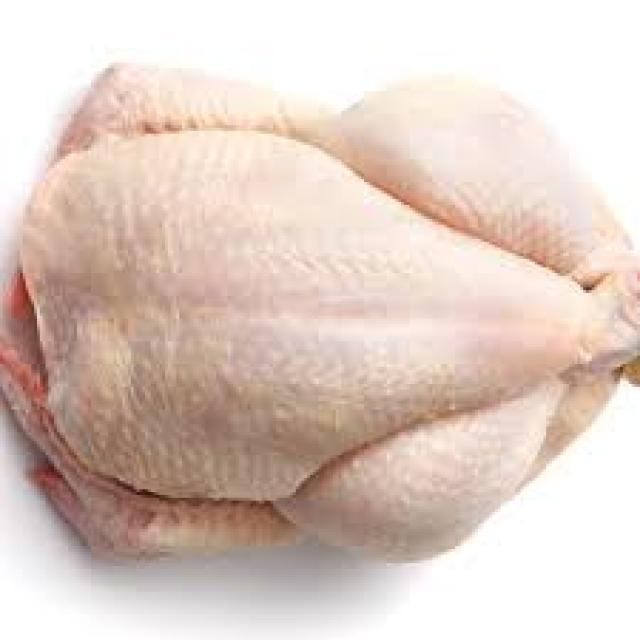Chicken: (0, 63, 640, 564)
